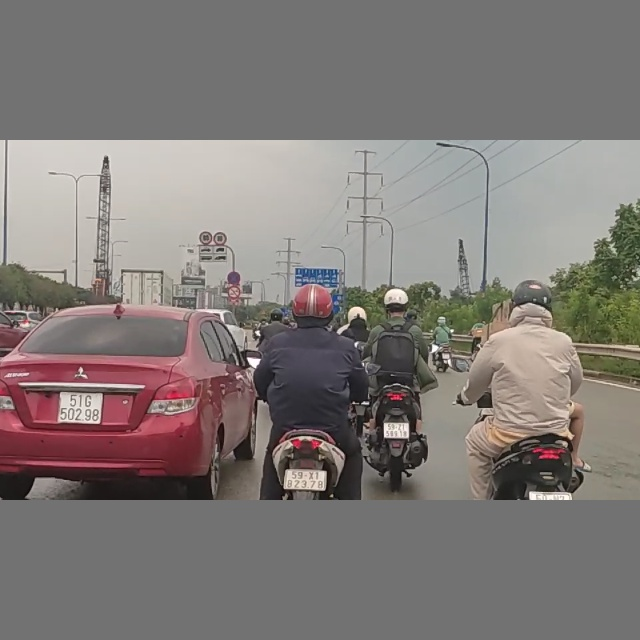P.130: (227, 271, 241, 285)
